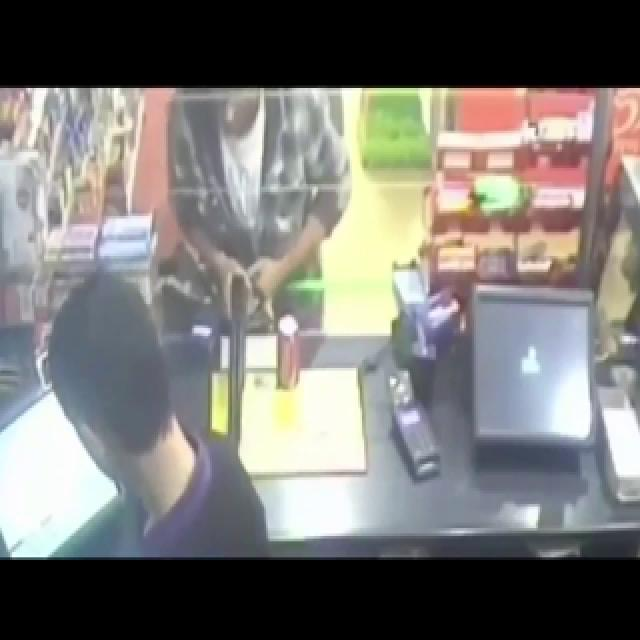robbery: (148, 94, 382, 514)
